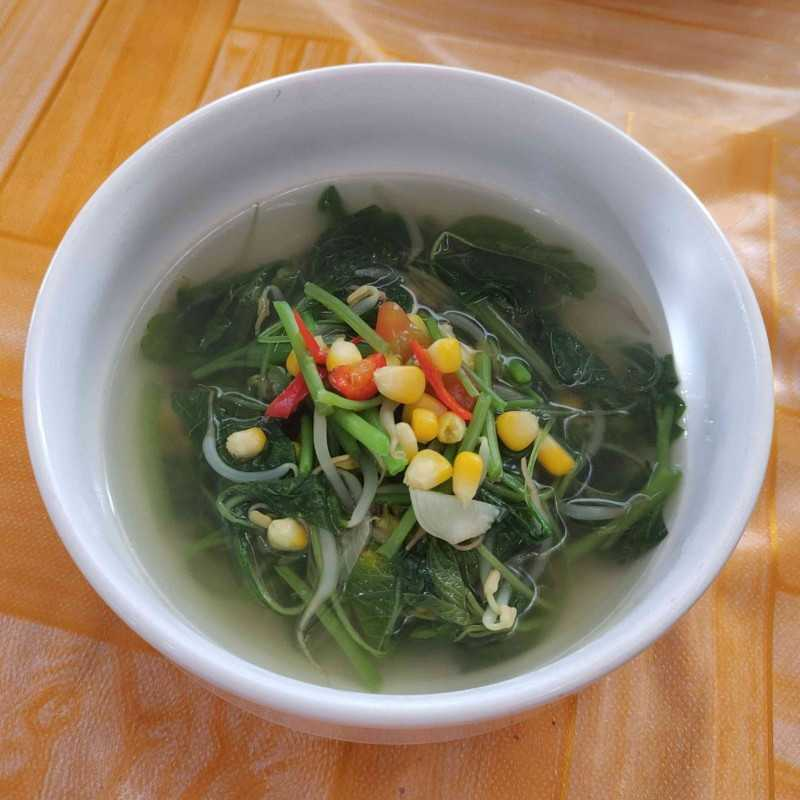Sayur Bayam: (152, 178, 734, 662)
